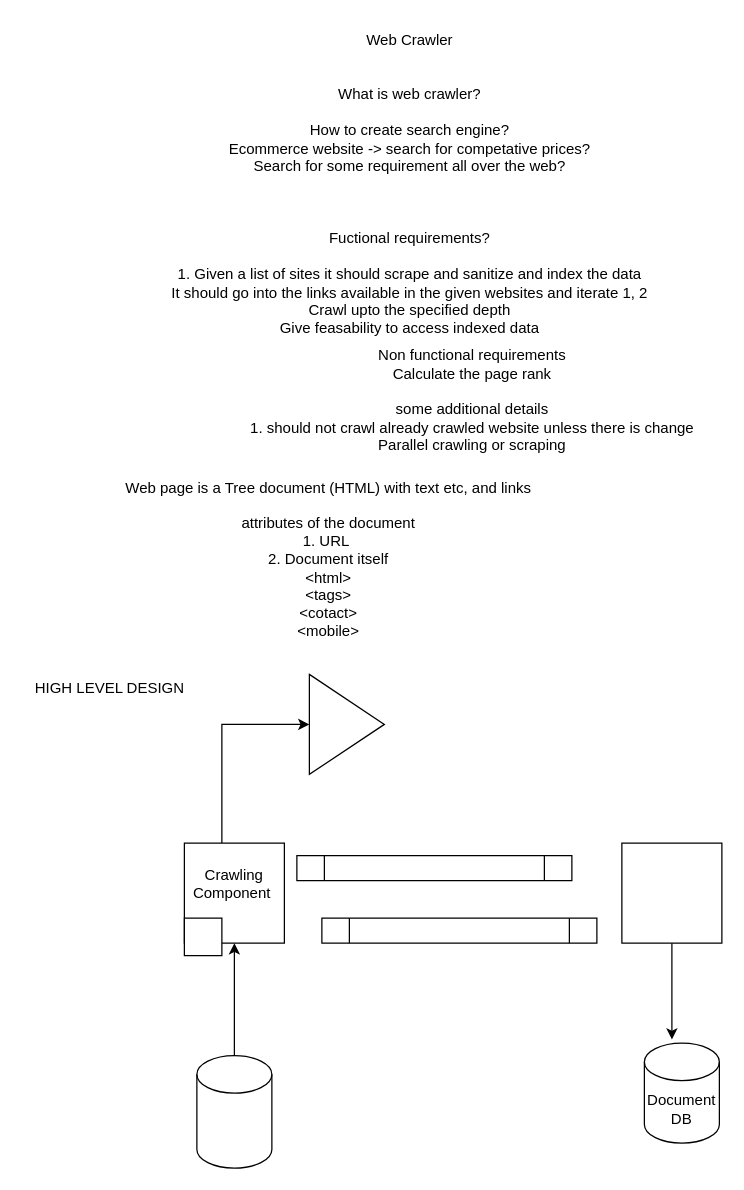
Image size: 744x1190. Some labels were removed from this diagram. Each missing label, with the centre of its shape:
"page url rank" belongs at point 234,1111.
"Web page scraper" belongs at point 671,892.
